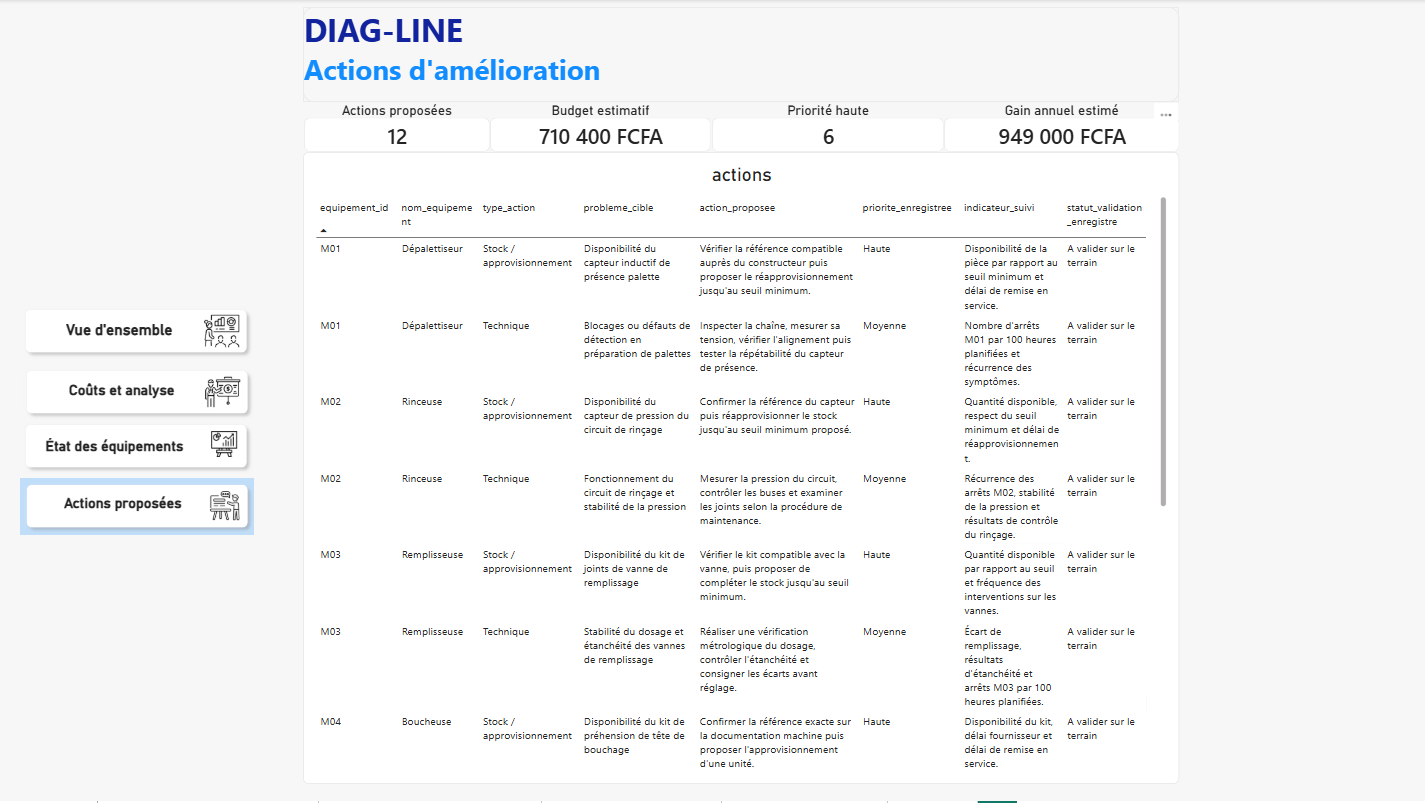

This screenshot's page, from the dashboard's own definition file:
{"tool":"powerbi","page":{"name":"04 - Actions proposées ","canvas":[1920,1080],"ordinal":3},"visuals":[{"type":"cardVisual","title":"Actions proposées","fields":{"Data":["CountNonNull(plan_action_provisoire_v2.action_proposee)"]},"box":[411,139,250,67],"z":0},{"type":"group","id":"g1","title":"Group 4","box":[26.7,564.4,315.7,75.7],"z":0,"group":"g5"},{"type":"cardVisual","title":"Priorité haute","fields":{"Data":["CountNonNull(plan_action_provisoire_v2.priorite_enregistree)"]},"box":[960,138.6,312.9,67.1],"z":1000},{"type":"group","id":"g2","title":"Group 1","box":[27,410,315.7,75.7],"z":1000,"group":"g6"},{"type":"actionButton","title":" État des équipements ","box":[56.8,591.4,197.8,26.7],"z":1000,"group":"g5"},{"type":"cardVisual","title":"Gain annuel estimé","fields":{"Data":["Sum(plan_action_provisoire_v2.cout_fcfa_hypothetique)"]},"box":[1272.9,138.6,317.1,67.1],"z":2000},{"type":"actionButton","title":"Vue d''ensemble","box":[90,434.4,164.4,25.6],"z":2000,"group":"g6"},{"type":"shape","box":[26.7,564.4,315.7,75.7],"z":2000,"group":"g1"},{"type":"cardVisual","title":"Budget estimatif","fields":{"Data":["Sum(plan_action_provisoire_v2.gain_annuel_fcfa_hypothetique)"]},"box":[661.4,138.6,297.1,67.1],"z":3000},{"type":"shape","box":[27,410,315.7,75.7],"z":3000,"group":"g2"},{"type":"shape","box":[27.8,491.1,315.7,75.7],"z":3000,"group":"g7"},{"type":"tableEx","title":"actions","fields":{"Values":["plan_action_provisoire_v2.equipement_id","plan_action_provisoire_v2.nom_equipement","plan_action_provisoire_v2.type_action","plan_action_provisoire_v2.probleme_cible","plan_action_provisoire_v2.action_proposee","plan_action_provisoire_v2.priorite_enregistree","plan_action_provisoire_v2.indicateur_suivi","plan_action_provisoire_v2.statut_validation_enregistre"]},"box":[410,205.7,1180,851.4],"z":4000},{"type":"textbox","box":[409.4,10.8,1179.7,127.9],"z":5000},{"type":"group","id":"g3","title":"Group 6","box":[27.8,491.1,315.7,75.7],"z":6000},{"type":"group","id":"g4","title":"Group 3","box":[27.8,645.6,315.7,75.7],"z":8000},{"type":"group","id":"g5","title":"Group 5","box":[26.7,564.4,315.6,75.6],"z":9000},{"type":"group","id":"g6","title":"Group 7","box":[27,410,315.7,75.7],"z":10000},{"type":"shape","box":[27.8,645.6,315.7,75.7],"z":16000,"group":"g8"},{"type":"group","id":"g7","title":"Group 1","box":[27.8,491.1,315.7,75.7],"z":17000,"group":"g3"},{"type":"image","title":" État des équipements ","box":[277.9,582.5,49.2,35.4],"z":17000,"group":"g1"},{"type":"actionButton","title":"  Coûts et analyse ","box":[93.6,515.4,151.1,23.3],"z":19000,"group":"g3"},{"type":"image","title":"Actions proposées ","box":[275.5,660.3,56.2,45.4],"z":19000,"group":"g8"},{"type":"group","id":"g8","title":"Group 2","box":[27.8,645.6,315.7,75.7],"z":20000,"group":"g4"},{"type":"actionButton","title":"Actions proposées ","box":[86.9,668.3,170,28.9],"z":21000,"group":"g4"},{"type":"image","title":" Vue d''ensemble ","box":[272.1,420.8,55.7,54.3],"z":22000,"group":"g2"},{"type":"image","title":" Vue d''ensemble ","box":[272.9,501.9,55.7,54.3],"z":22000,"group":"g7"}]}

Visuals, with their boxes on the page's 1920x1080 design canvas (x1, y1, x2, y2). These are canvas units, not pixel positions in the 1425x803 screenshot, which may show the page scaled, cropped or inside an application window:
"Actions proposées" cardVisual: box(411, 139, 661, 206)
"Group 4" group: box(27, 564, 342, 640)
"Priorité haute" cardVisual: box(960, 139, 1273, 206)
"Group 1" group: box(27, 410, 343, 486)
" État des équipements " actionButton: box(57, 591, 255, 618)
"Gain annuel estimé" cardVisual: box(1273, 139, 1590, 206)
"Vue d''ensemble" actionButton: box(90, 434, 254, 460)
shape: box(27, 564, 342, 640)
"Budget estimatif" cardVisual: box(661, 139, 958, 206)
shape: box(27, 410, 343, 486)
shape: box(28, 491, 344, 567)
"actions" tableEx: box(410, 206, 1590, 1057)
textbox: box(409, 11, 1589, 139)
"Group 6" group: box(28, 491, 344, 567)
"Group 3" group: box(28, 646, 344, 721)
"Group 5" group: box(27, 564, 342, 640)
"Group 7" group: box(27, 410, 343, 486)
shape: box(28, 646, 344, 721)
"Group 1" group: box(28, 491, 344, 567)
" État des équipements " image: box(278, 582, 327, 618)
"  Coûts et analyse " actionButton: box(94, 515, 245, 539)
"Actions proposées " image: box(276, 660, 332, 706)
"Group 2" group: box(28, 646, 344, 721)
"Actions proposées " actionButton: box(87, 668, 257, 697)
" Vue d''ensemble " image: box(272, 421, 328, 475)
" Vue d''ensemble " image: box(273, 502, 329, 556)
